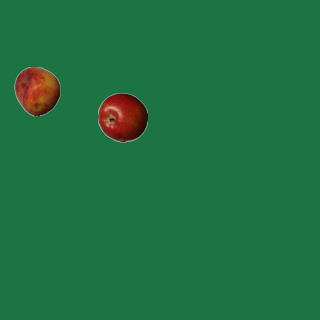Apple Braeburn: (97, 92, 147, 142)
Peach: (12, 66, 62, 116)
